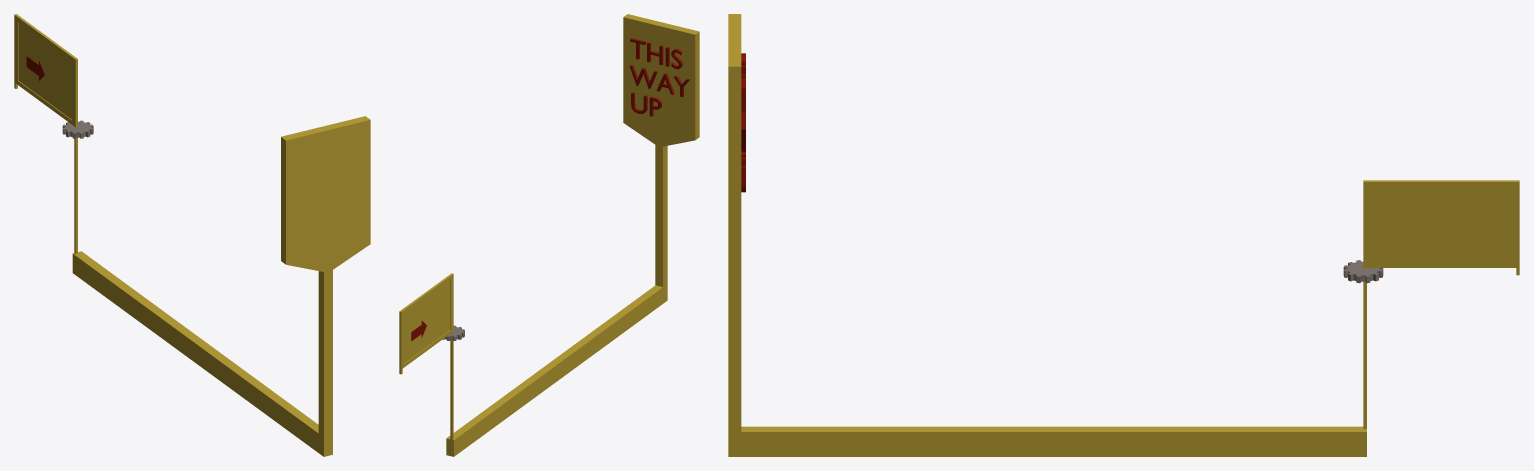
The model's file is rot3_fence.gltf.
3 renders of one model, left to right at view 1: azimuth 30°, elevation 25°; view 2: azimuth 150°, elevation 25°; view 3: azimuth 270°, elevation 25°, orthographic. The views are drawn at different scales.
Visible parts, largest first — view 1: rot3.fence; view 2: rot3.fence; view 3: rot3.fence.
Part boxes in pixels (left/top/right/bottom): rot3.fence: left=14, top=14, right=370, bottom=456; rot3.fence: left=399, top=14, right=699, bottom=456; rot3.fence: left=728, top=14, right=1519, bottom=456.
Bounding box in the file's own units: 6.84 × 25.13 × 43.57.
